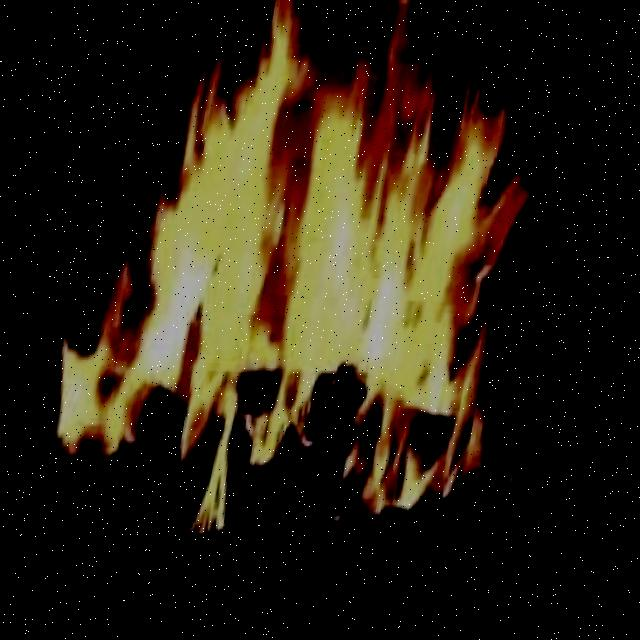Fire: (34, 0, 594, 602)
